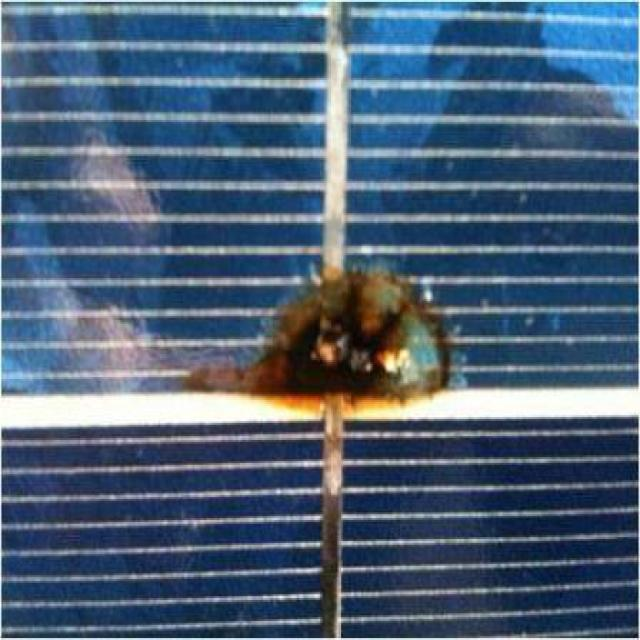electrical damage: (190, 241, 481, 434)
